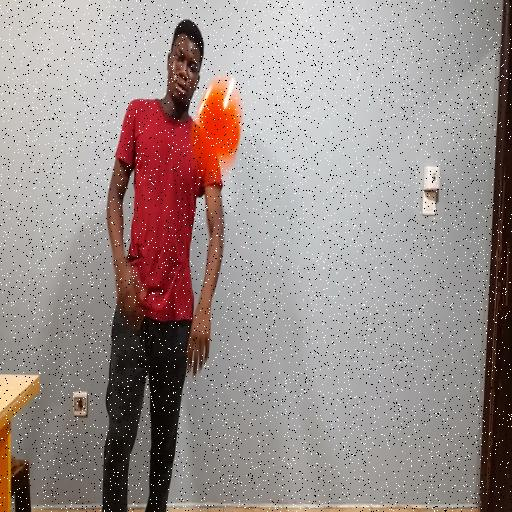plastic-ball: (190, 70, 248, 182)
